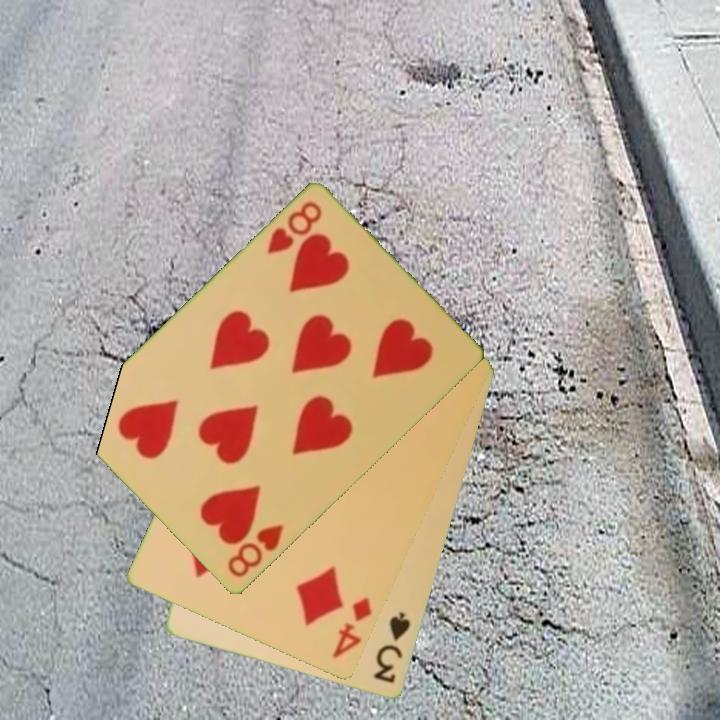3s: (369, 609, 414, 687)
4d: (329, 594, 376, 662)
8h: (224, 521, 287, 581), (263, 198, 326, 258)
